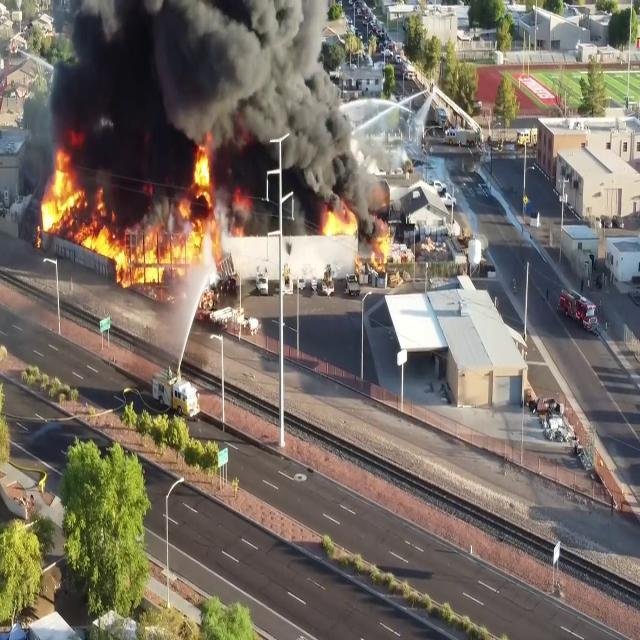Fire: (38, 144, 178, 278), (318, 200, 360, 238), (370, 225, 400, 269)
Smoke: (38, 1, 382, 204)
